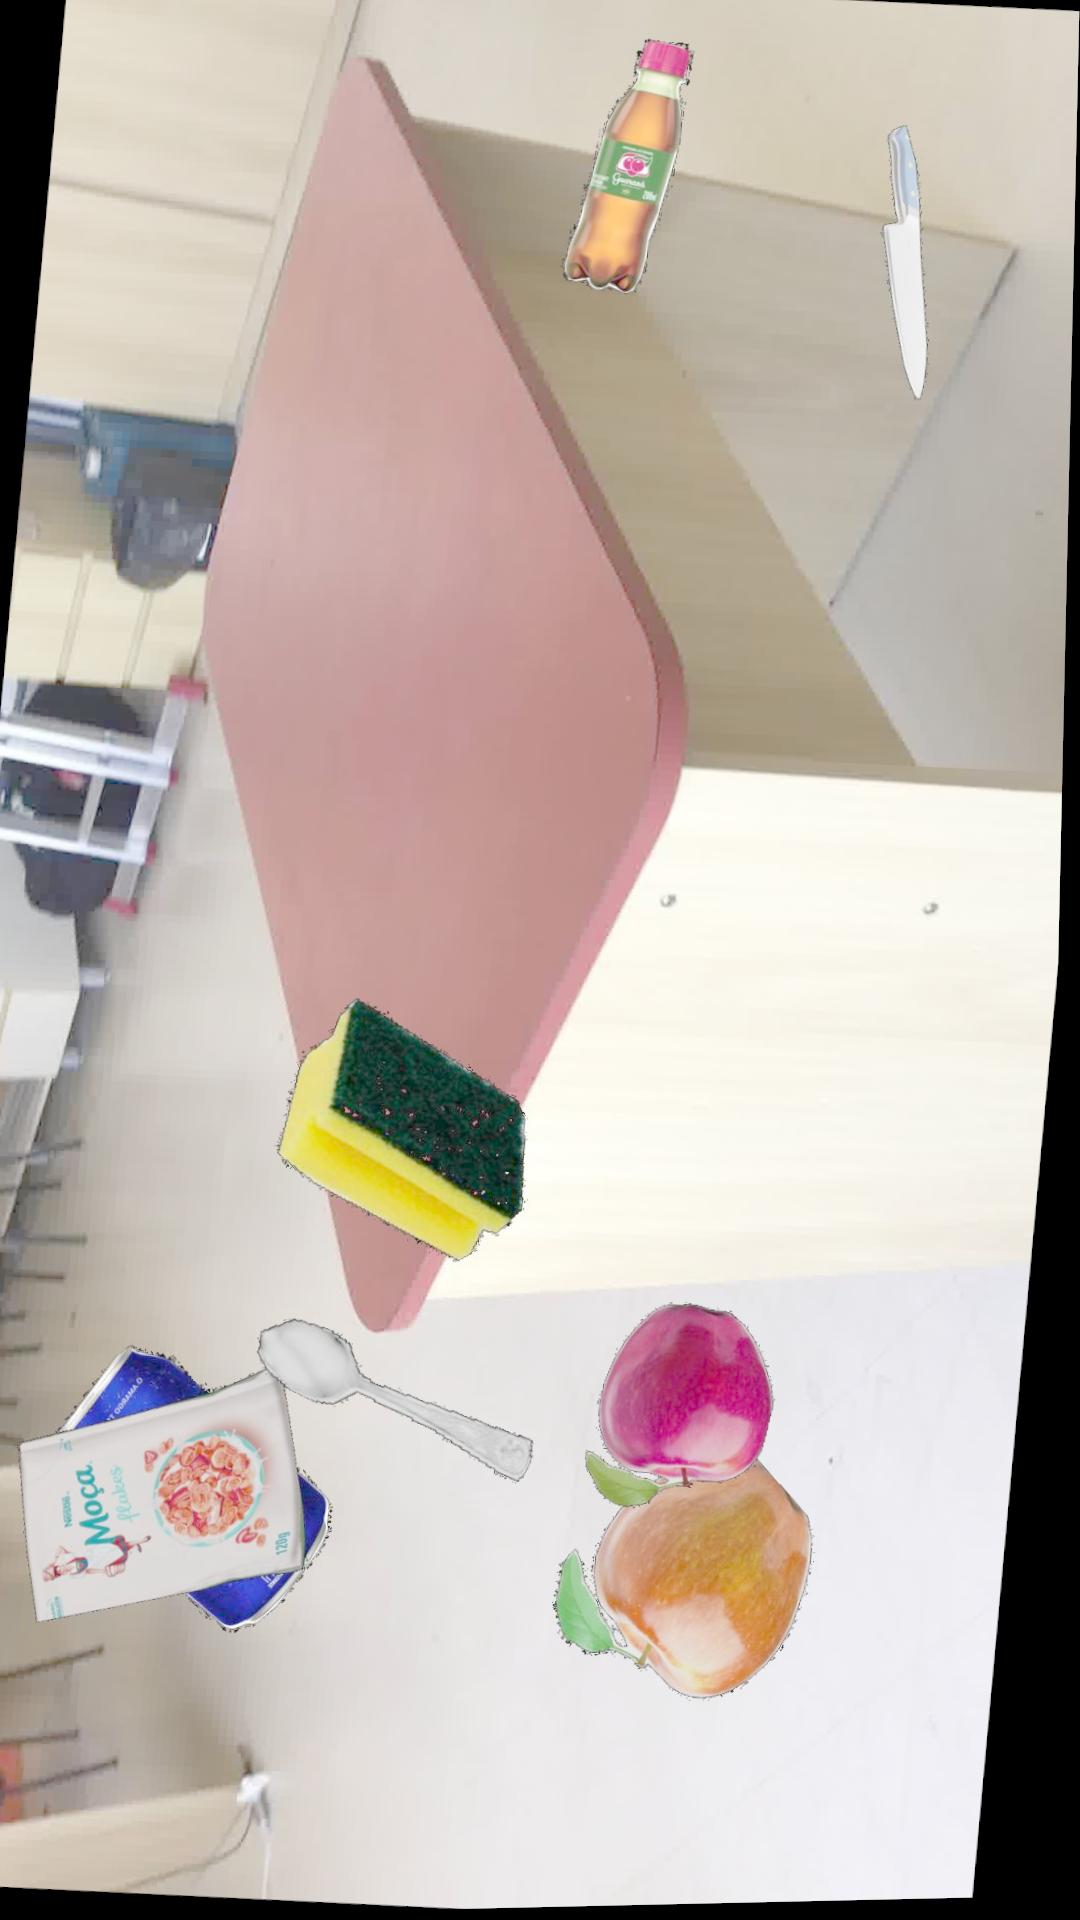apple: (562, 1465, 820, 1704), (593, 1308, 781, 1511)
corn flakes: (25, 1373, 315, 1625)
guarana: (566, 44, 695, 298)
knife: (885, 132, 931, 406)
sponge: (284, 1002, 533, 1266)
spoon: (264, 1321, 541, 1486)
